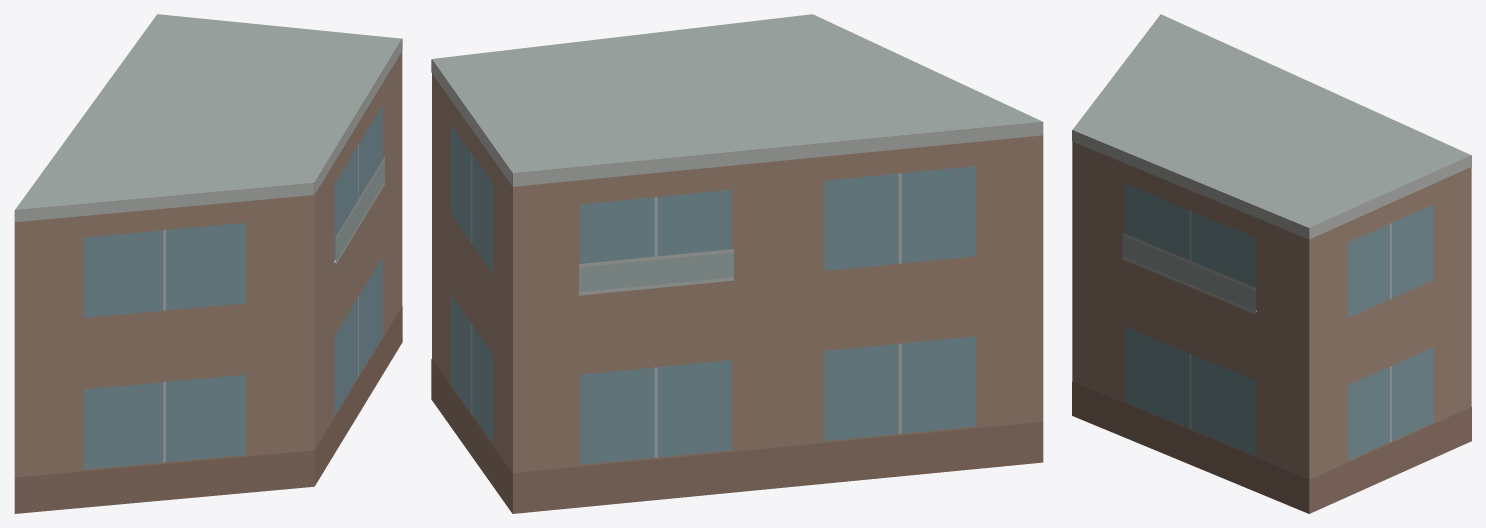
Rendered from survey-upis-32532117.glb.
3 views of the same model, side by side, from view 1: azimuth 30°, elevation 25°; view 2: azimuth 150°, elevation 25°; view 3: azimuth 270°, elevation 25° (orthographic). The views are drawn at different scales.
Parts seen in each view (by area): view 1: survey-upis-32532117.tmp; view 2: survey-upis-32532117.tmp; view 3: survey-upis-32532117.tmp.
Part boxes in pixels (x1=…): survey-upis-32532117.tmp: x1=14, y1=14, x2=402, y2=513; survey-upis-32532117.tmp: x1=431, y1=14, x2=1043, y2=513; survey-upis-32532117.tmp: x1=1072, y1=14, x2=1471, y2=513.
Bounding box in the file's own units: 9.81 × 6.1 × 7.74.
